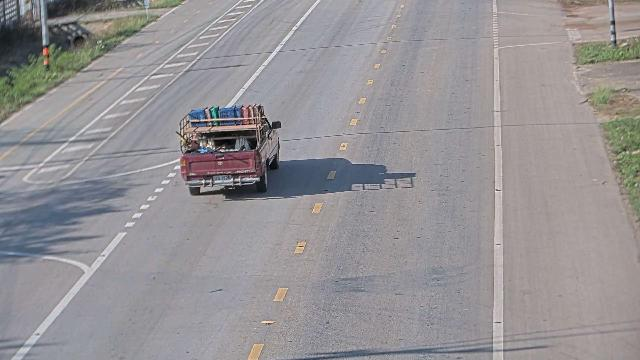pickup-truck: (176, 102, 282, 195)
